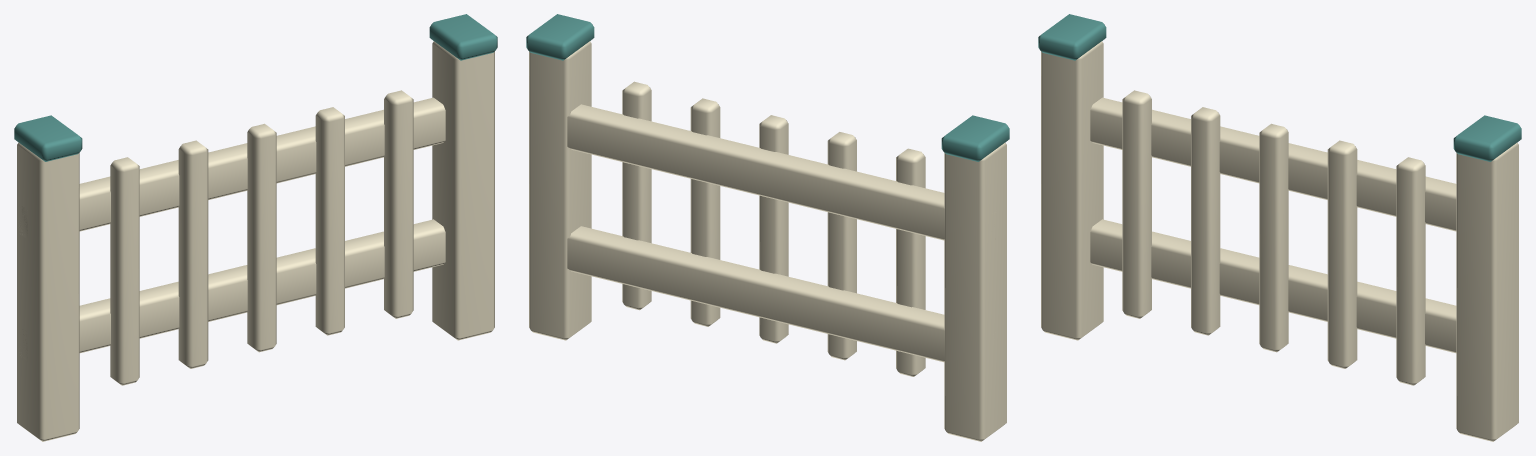
The model's file is farm_art_fence_painted.glb.
The picture shows the model from 3 angles, left to right: view 1: azimuth 30°, elevation 25°; view 2: azimuth 150°, elevation 25°; view 3: azimuth 330°, elevation 25°; orthographic projection.
Parts seen in each view (by area): view 1: Square post.002, Square post.003, Continuous two metre rail.003, Continuous two metre rail.002, Cream picket.001, Cream picket.004, Cream picket.002, Cream picket, Cream picket.003, Post cap.002, Post cap.003; view 2: Continuous two metre rail.003, Continuous two metre rail.002, Square post.002, Square post.003, Cream picket.003, Cream picket.002, Cream picket.004, Cream picket.001, Cream picket, Post cap.002, Post cap.003; view 3: Square post.003, Square post.002, Continuous two metre rail.003, Continuous two metre rail.002, Cream picket.003, Cream picket, Cream picket.002, Cream picket.004, Cream picket.001, Post cap.003, Post cap.002.
Boxes of the visible parts, box(x1,y1,x2,y2) form: Square post.002: box(17, 142, 79, 441); Square post.003: box(432, 41, 494, 340); Continuous two metre rail.003: box(19, 97, 445, 239); Continuous two metre rail.002: box(20, 219, 445, 361); Cream picket.001: box(178, 140, 208, 368); Cream picket.004: box(384, 90, 413, 318); Cream picket.002: box(247, 123, 276, 352); Cream picket: box(110, 157, 139, 385); Cream picket.003: box(315, 107, 344, 335); Post cap.002: box(14, 115, 82, 161); Post cap.003: box(429, 14, 497, 60); Continuous two metre rail.003: box(567, 104, 995, 240); Continuous two metre rail.002: box(567, 226, 944, 362); Square post.002: box(944, 142, 1006, 441); Square post.003: box(529, 41, 591, 340); Cream picket.003: box(690, 98, 720, 326); Cream picket.002: box(759, 115, 788, 343); Cream picket.004: box(622, 81, 651, 310); Cream picket.001: box(827, 132, 856, 360); Cream picket: box(896, 148, 925, 376); Post cap.002: box(941, 115, 1009, 161); Post cap.003: box(526, 14, 594, 60); Square post.003: box(1456, 142, 1518, 441); Square post.002: box(1041, 41, 1103, 340); Continuous two metre rail.003: box(1090, 97, 1456, 231); Continuous two metre rail.002: box(1090, 219, 1456, 353); Cream picket.003: box(1327, 140, 1357, 368); Cream picket: box(1122, 90, 1151, 318); Cream picket.002: box(1259, 123, 1288, 352); Cream picket.004: box(1396, 157, 1425, 385); Cream picket.001: box(1191, 107, 1220, 335); Post cap.003: box(1453, 115, 1521, 161); Post cap.002: box(1038, 14, 1106, 60).
Bounding box in the file's own units: 2 × 1.26 × 0.24.
